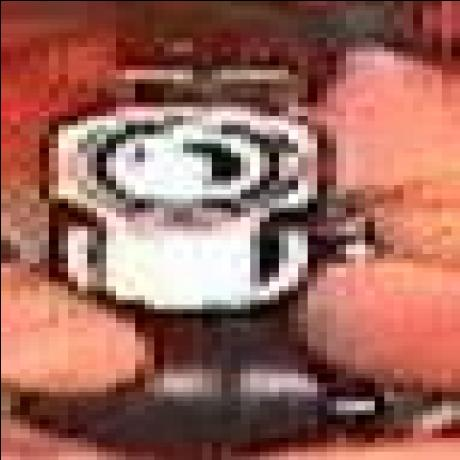weapon: (29, 63, 345, 309)
